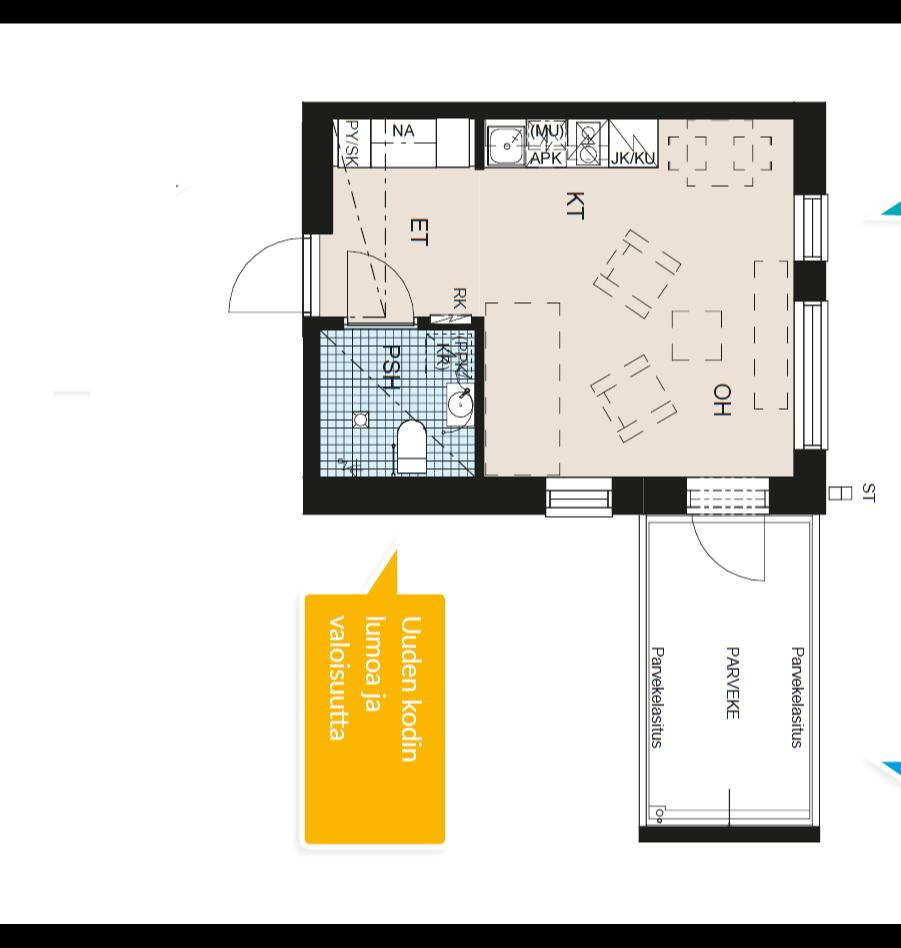door: (221, 234, 320, 321), (688, 496, 768, 584), (338, 248, 417, 334)
window: (781, 290, 828, 458), (525, 468, 620, 526), (784, 184, 830, 275)
